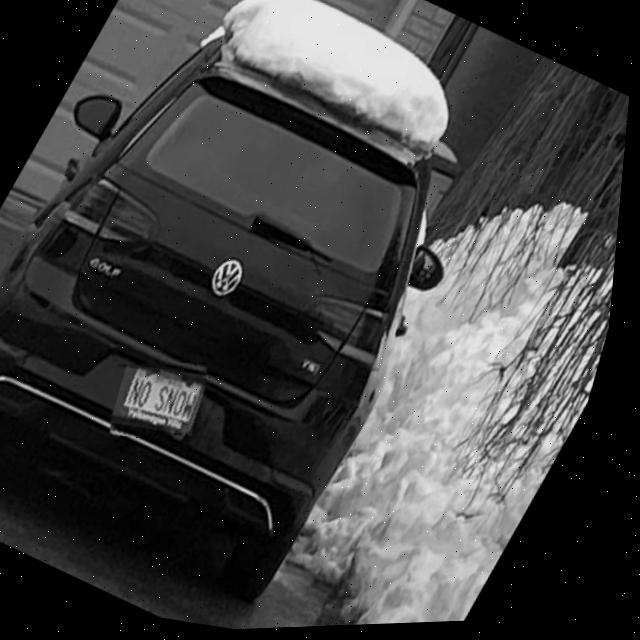LicensePlate: (120, 366, 213, 437)
